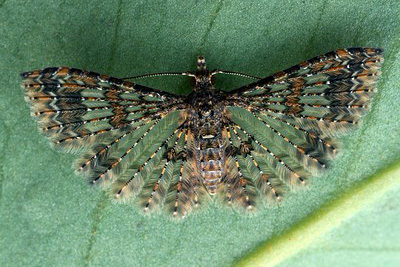Alucitidae: (17, 40, 383, 220)
moth: (19, 42, 385, 222)
